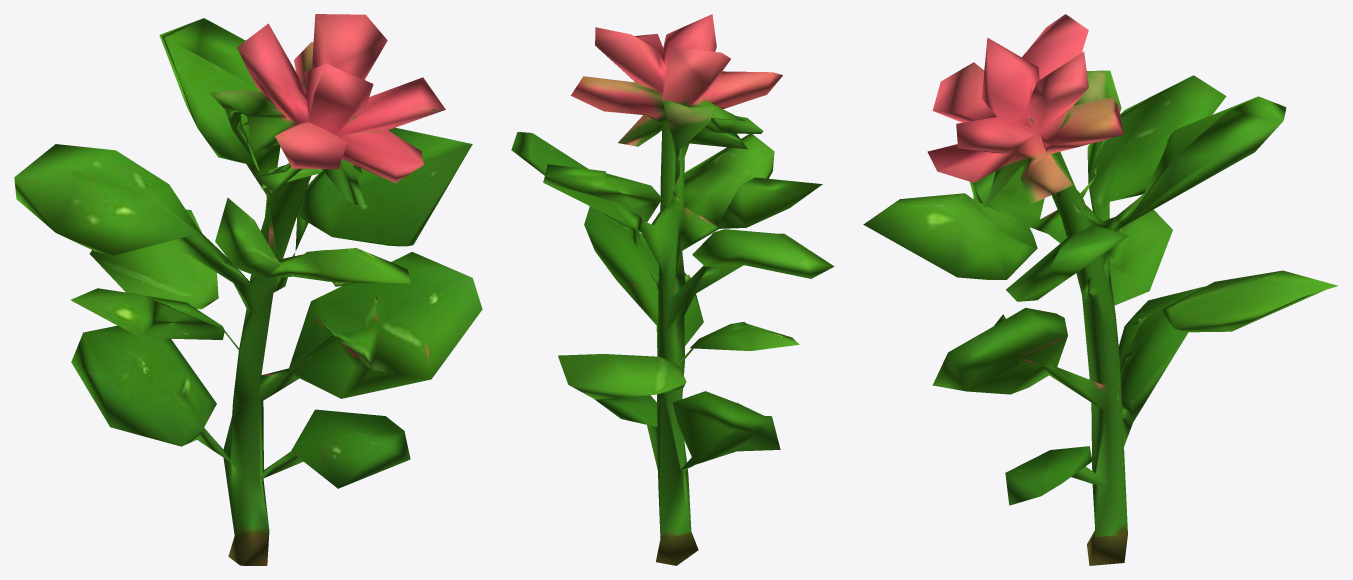
The model's file is flower.glb.
The picture shows the model from 3 angles, left to right: view 1: azimuth 30°, elevation 25°; view 2: azimuth 150°, elevation 25°; view 3: azimuth 270°, elevation 25°; orthographic projection. The views are drawn at different scales.
Visible parts, largest first — view 1: tripo_node_22b8c2be-facb-4213-b95a-ac580b732cad; view 2: tripo_node_22b8c2be-facb-4213-b95a-ac580b732cad; view 3: tripo_node_22b8c2be-facb-4213-b95a-ac580b732cad.
Part boxes in pixels (left/top/right/bottom): tripo_node_22b8c2be-facb-4213-b95a-ac580b732cad: left=14, top=14, right=482, bottom=565; tripo_node_22b8c2be-facb-4213-b95a-ac580b732cad: left=511, top=14, right=834, bottom=565; tripo_node_22b8c2be-facb-4213-b95a-ac580b732cad: left=863, top=14, right=1338, bottom=565.
Size of the model in its own units: 0.7365 by 0.9899 by 0.7952.
1 material, 1 textured.
